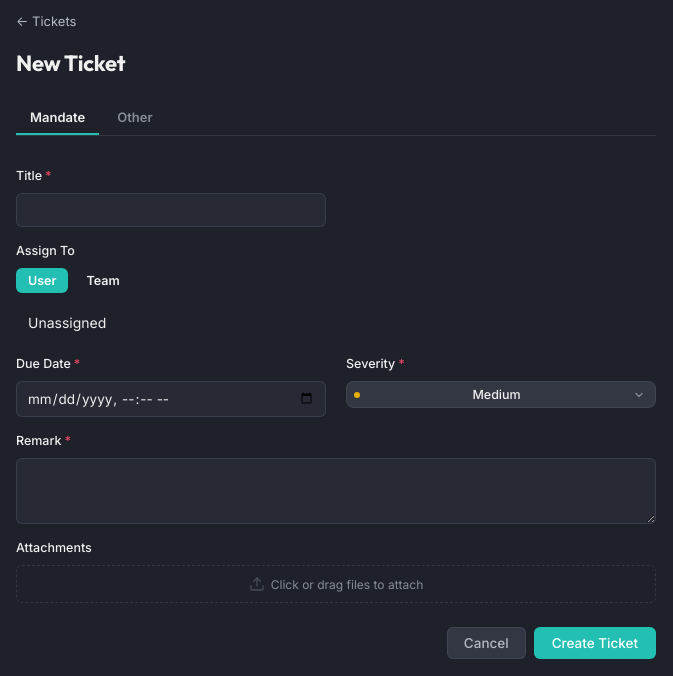
CustomerRecordCreate — User/Team assign-mode toggle › switches to Team mode, showing the team picker instead of the user picker
The width and height of the screenshot is (673, 676).
Check: the text "Unassigned" is shown, box x1=28 y1=314 x2=106 y2=331
Step 1. Click the button "Team" → x=103, y=280, box x1=74 y1=268 x2=132 y2=293
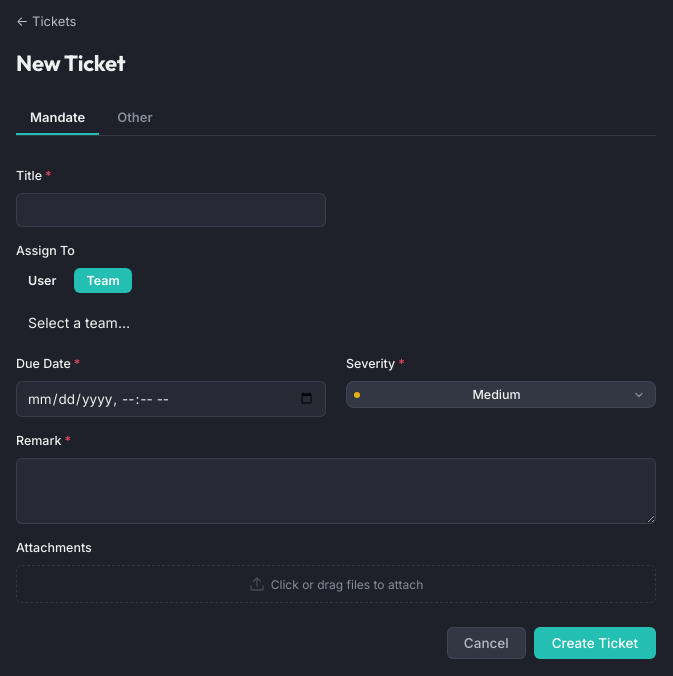
Check: the button "Select a team…" is shown, box x1=16 y1=305 x2=656 y2=340
Check: the button "Unassigned" is gone
